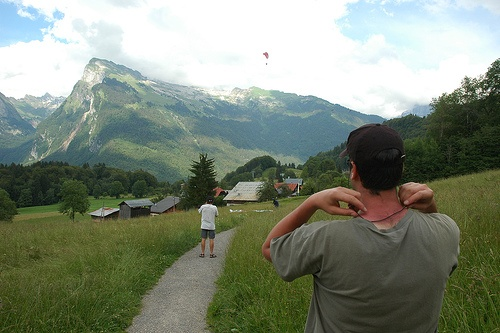head: (349, 122, 407, 194), (205, 196, 215, 207)
person: (263, 122, 457, 329), (197, 195, 217, 257)
